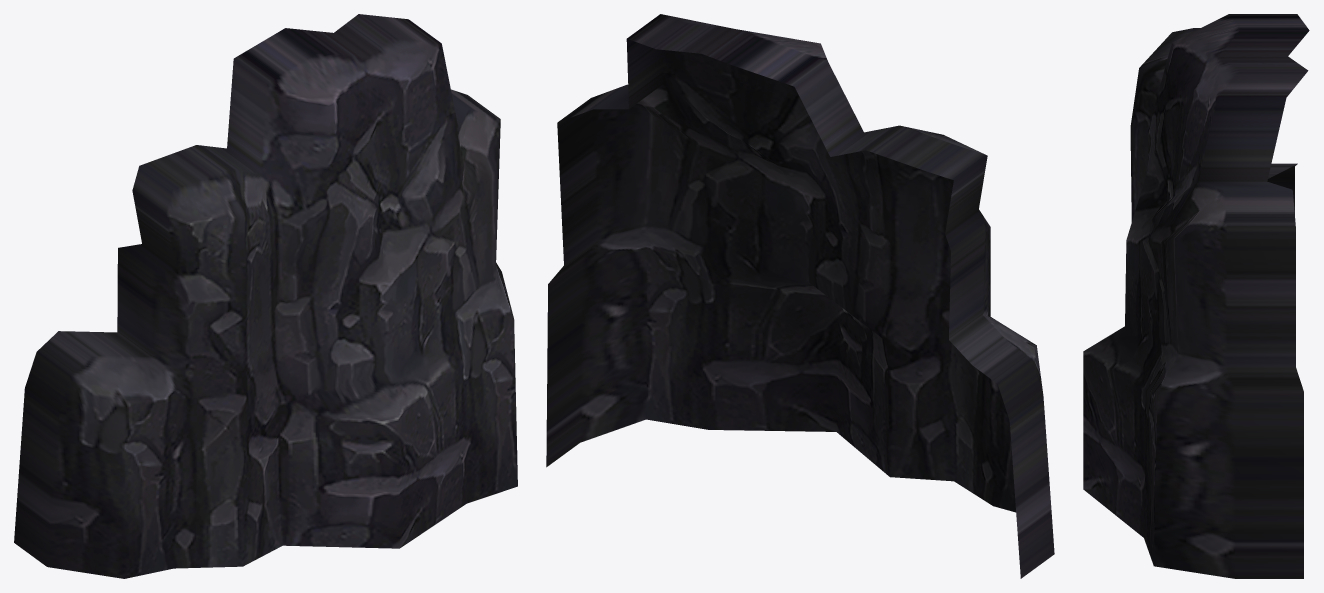
Rendered from Treasure_Wall_01.FBX.
3 renders of one model, left to right at view 1: azimuth 30°, elevation 25°; view 2: azimuth 150°, elevation 25°; view 3: azimuth 270°, elevation 25°, orthographic. The views are drawn at different scales.
Parts seen in each view (by area): view 1: Treasure_Wall_01; view 2: Treasure_Wall_01; view 3: Treasure_Wall_01.
Part boxes in pixels (x1,y1,x2,y2): Treasure_Wall_01: (14,14,517,578); Treasure_Wall_01: (546,14,1054,578); Treasure_Wall_01: (1083,14,1309,578).
Size of the model in its own units: 19.1 by 17.5 by 7.86.
